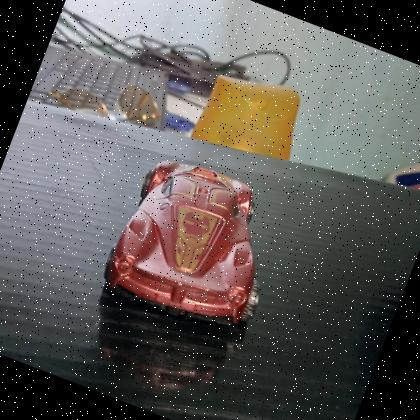Car: (90, 139, 304, 352)
